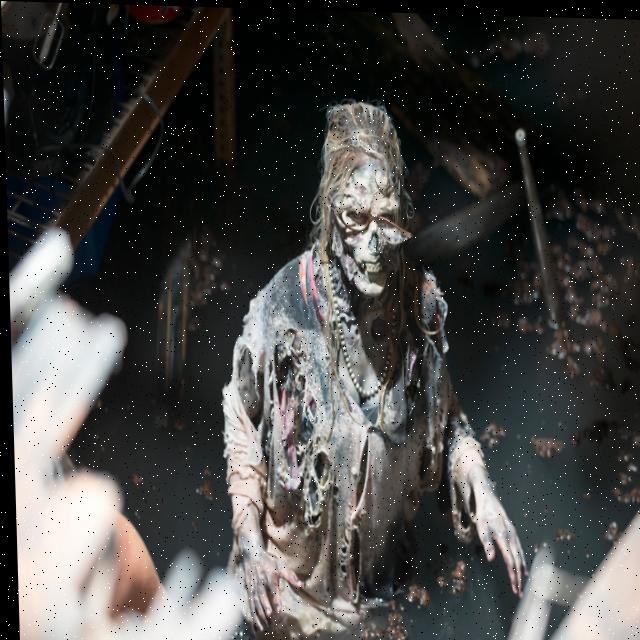Zombie: (313, 105, 404, 309)
